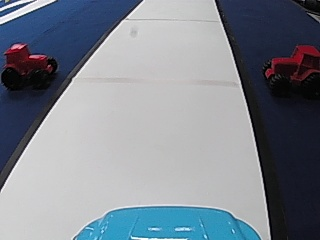tractor: (261, 42, 320, 99), (0, 41, 57, 90)
